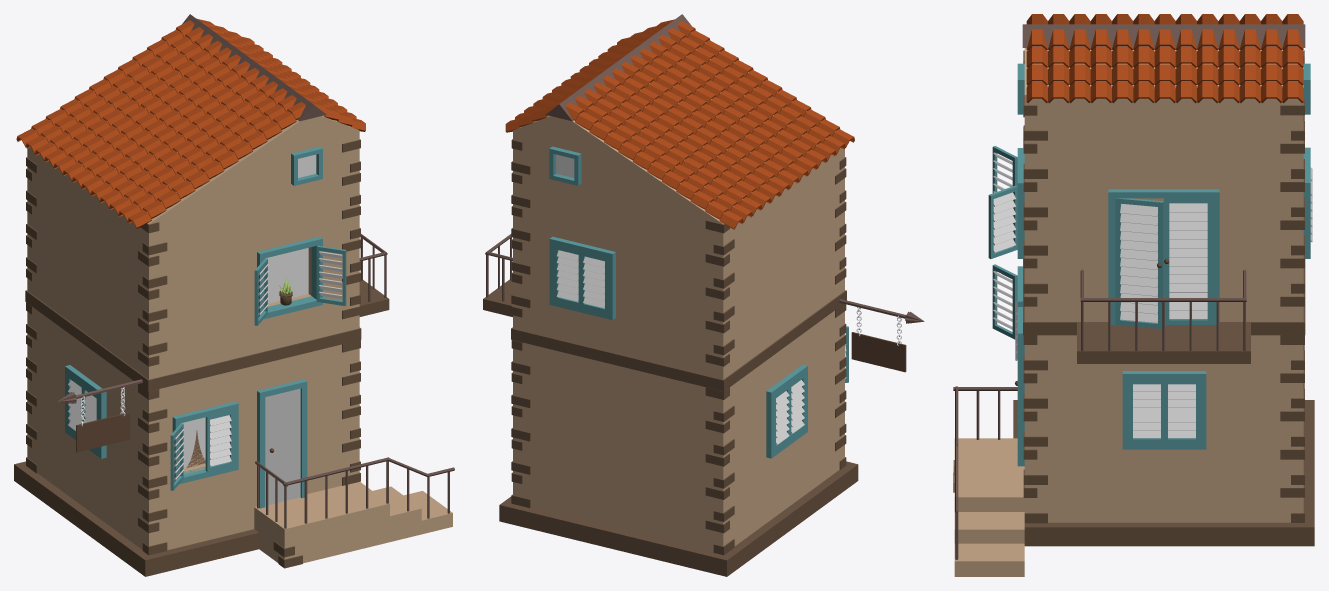
File: Building #4.fbx
The picture shows the model from 3 angles, left to right: view 1: azimuth 30°, elevation 25°; view 2: azimuth 150°, elevation 25°; view 3: azimuth 270°, elevation 25°; orthographic projection. The views are drawn at different scales.
Parts seen in each view (by area): view 1: house_base, roof.000, house_roof, steps.000, Cube.001, bricks.000, Cube.011, door, bricks.003, roof_inside.001, door_frame, window_frame.001 (+18 smaller); view 2: house_base, roof.000, Cube.001, house_roof, bricks.001, Cube.011, bricks.002, roof_inside.001, window_frame.003, bricks.000, Cube.009, roof (+8 smaller); view 3: house_base, roof_inside.001, house_roof, Cube.001, Cube.010, steps.000, bricks.002, bricks.003, shatter_frame.006, shatter_frame.009, roof, door_frame.001 (+21 smaller).
Boxes of the visible parts, x1=… form: house_base: x1=27, y1=147, x2=359, y2=550; roof.000: x1=16, y1=20, x2=305, y2=228; house_roof: x1=36, y1=41, x2=359, y2=223; steps.000: x1=254, y1=482, x2=389, y2=563; Cube.001: x1=14, y1=430, x2=259, y2=576; bricks.000: x1=138, y1=222, x2=167, y2=555; Cube.011: x1=25, y1=290, x2=361, y2=391; door: x1=265, y1=388, x2=300, y2=505; bricks.003: x1=342, y1=139, x2=360, y2=485; roof_inside.001: x1=197, y1=19, x2=365, y2=131; door_frame: x1=257, y1=379, x2=307, y2=508; window_frame.001: x1=257, y1=236, x2=322, y2=318; house_base: x1=513, y1=148, x2=844, y2=552; roof.000: x1=565, y1=21, x2=854, y2=229; Cube.001: x1=499, y1=461, x2=858, y2=576; house_roof: x1=513, y1=42, x2=835, y2=224; bricks.001: x1=705, y1=220, x2=734, y2=555; Cube.011: x1=511, y1=290, x2=846, y2=391; bricks.002: x1=511, y1=139, x2=530, y2=507; roof_inside.001: x1=505, y1=19, x2=674, y2=132; window_frame.003: x1=549, y1=236, x2=615, y2=320; bricks.000: x1=835, y1=157, x2=846, y2=469; Cube.009: x1=851, y1=332, x2=906, y2=372; roof: x1=546, y1=14, x2=692, y2=121; house_base: x1=1024, y1=143, x2=1303, y2=522; roof_inside.001: x1=1026, y1=29, x2=1303, y2=103; house_roof: x1=1024, y1=48, x2=1303, y2=143; Cube.001: x1=1013, y1=400, x2=1314, y2=546; Cube.010: x1=1077, y1=322, x2=1250, y2=363; steps.000: x1=954, y1=438, x2=1024, y2=511; bricks.002: x1=1280, y1=100, x2=1304, y2=522; bricks.003: x1=1023, y1=95, x2=1047, y2=523; shatter_frame.006: x1=1169, y1=203, x2=1207, y2=319; shatter_frame.009: x1=1120, y1=203, x2=1157, y2=323; roof: x1=1022, y1=24, x2=1305, y2=47; door_frame.001: x1=1108, y1=189, x2=1219, y2=324.
Bounding box in the file's own units: 687 × 777 × 518.
